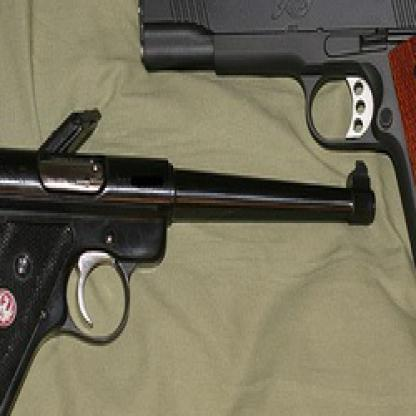gun: (0, 148, 383, 413), (129, 0, 415, 334)
